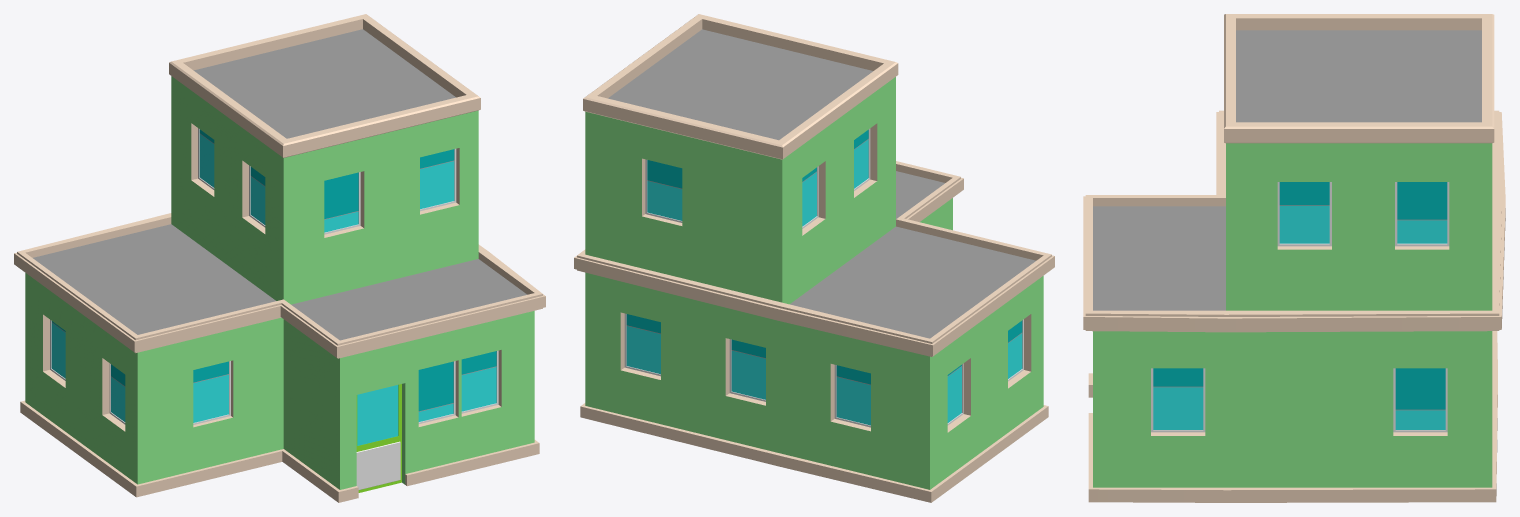
Rendered from SM_House_06_03.FBX.
The picture shows the model from 3 angles, left to right: view 1: azimuth 30°, elevation 25°; view 2: azimuth 150°, elevation 25°; view 3: azimuth 270°, elevation 25°; orthographic projection. The views are drawn at different scales.
Visible parts, largest first — view 1: SM_House_06_03; view 2: SM_House_06_03; view 3: SM_House_06_03.
Boxes of the visible parts, box(x1,y1,x2,y2) form: SM_House_06_03: box(14, 14, 545, 502); SM_House_06_03: box(574, 14, 1054, 502); SM_House_06_03: box(1083, 14, 1505, 502).
Bounding box in the file's own units: 7.35 × 6.2 × 6.35.
1 material, 1 textured.
